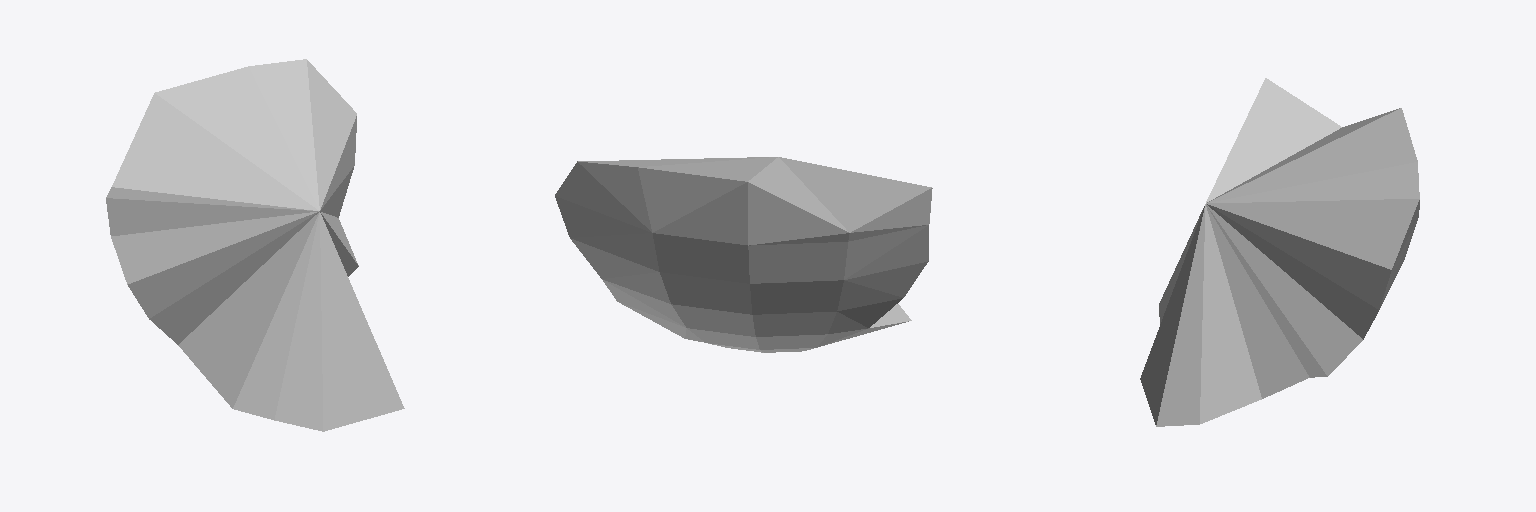
File: orb_piece.obj
3 views of the same model, side by side, from view 1: azimuth 30°, elevation 25°; view 2: azimuth 150°, elevation 25°; view 3: azimuth 270°, elevation 25° (orthographic).
Visible parts, largest first — view 1: orb1; view 2: orb1; view 3: orb1.
Boxes of the visible parts, <box> form: orb1: <box>106,59,404,431</box>; orb1: <box>555,157,932,352</box>; orb1: <box>1140,78,1419,426</box>.
Bounding box in the file's own units: 0.2802 × 0.2187 × 0.2156.